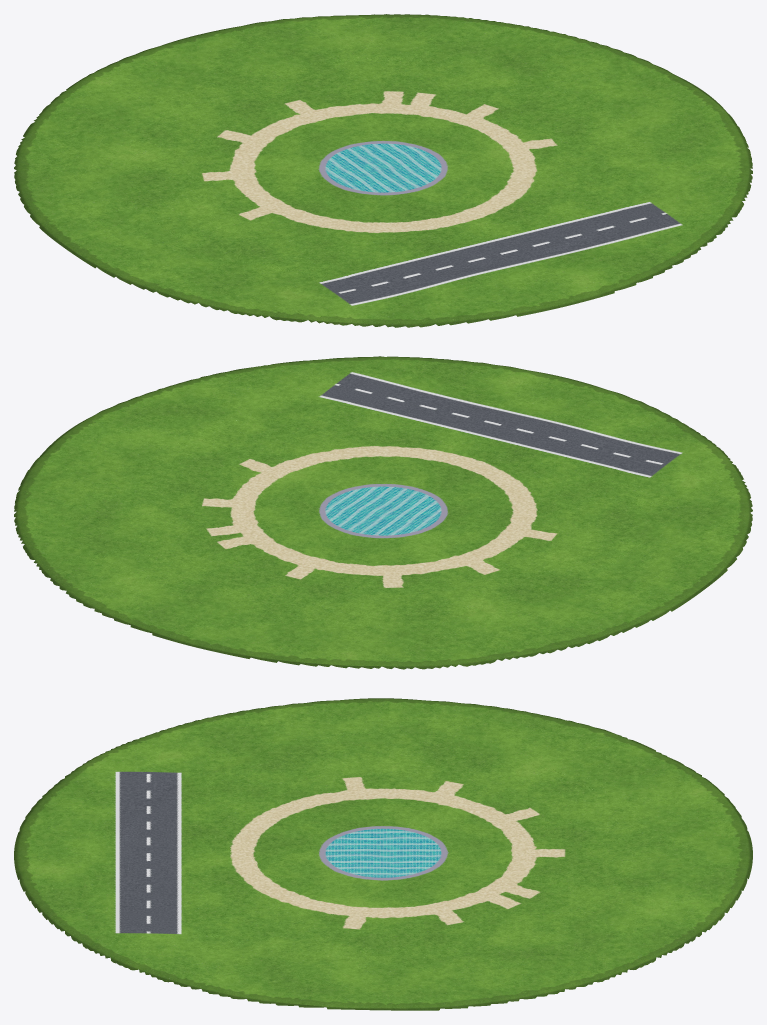
File: sol.glb
The picture shows the model from 3 angles, top to bottom: view 1: azimuth 30°, elevation 25°; view 2: azimuth 150°, elevation 25°; view 3: azimuth 270°, elevation 25°; orthographic projection.
Visible parts, largest first — view 1: sol; view 2: sol; view 3: sol.
Boxes of the visible parts, box(x1,y1,x2,y2) form: sol: box(14, 14, 752, 327); sol: box(14, 356, 752, 669); sol: box(14, 698, 752, 1010).
Size of the model in its own units: 47.2 by 0.3622 by 47.2.
Materials: 1 (1 with a texture image).
